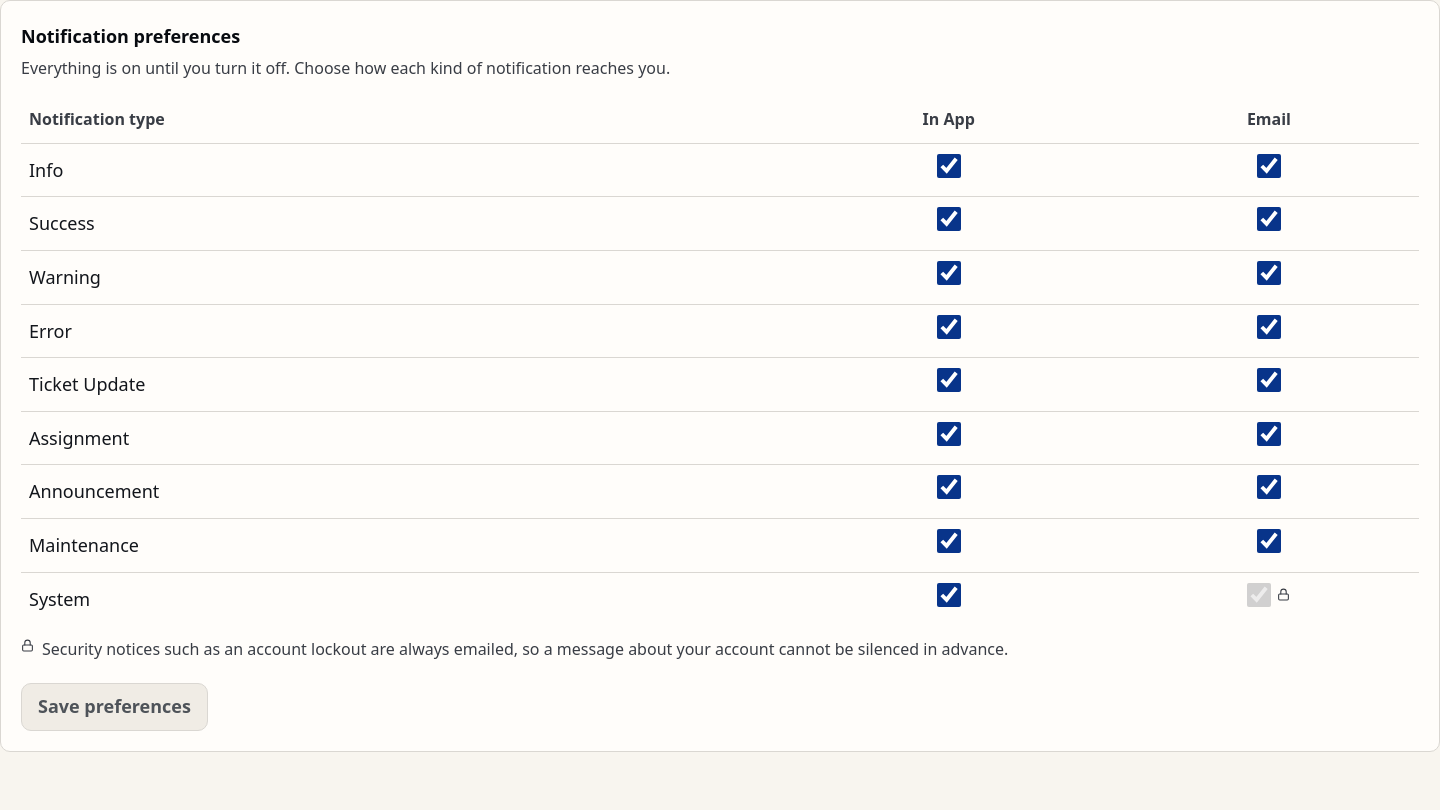
it: saving › counts the unsaved changes so the save says what it will do
Step 1. Click the 6th checkbox named "Email notifications for Warning" → (1269, 273), box [1257, 261, 1281, 285]
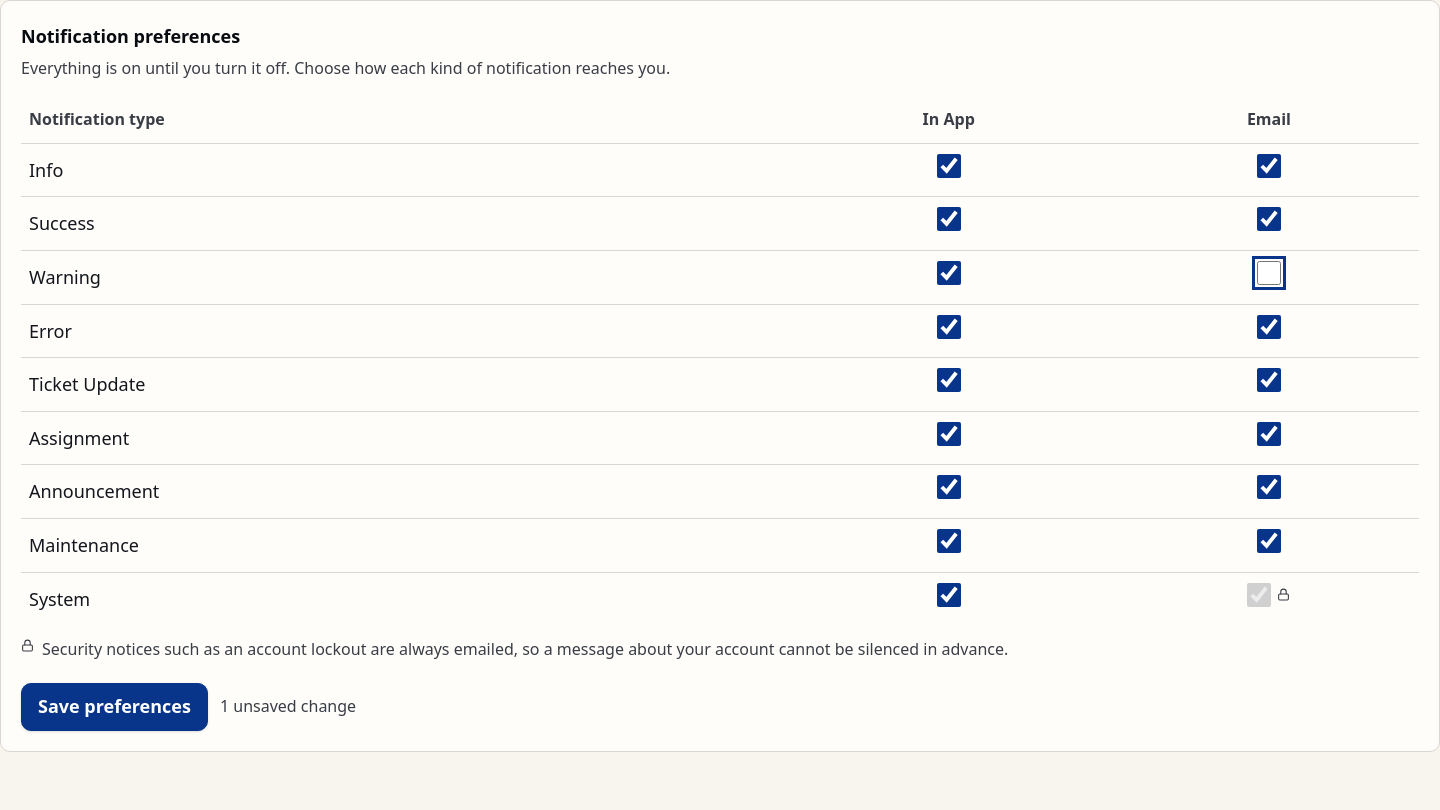
Now the text "1 unsaved change" is shown, box [220, 694, 356, 720]
